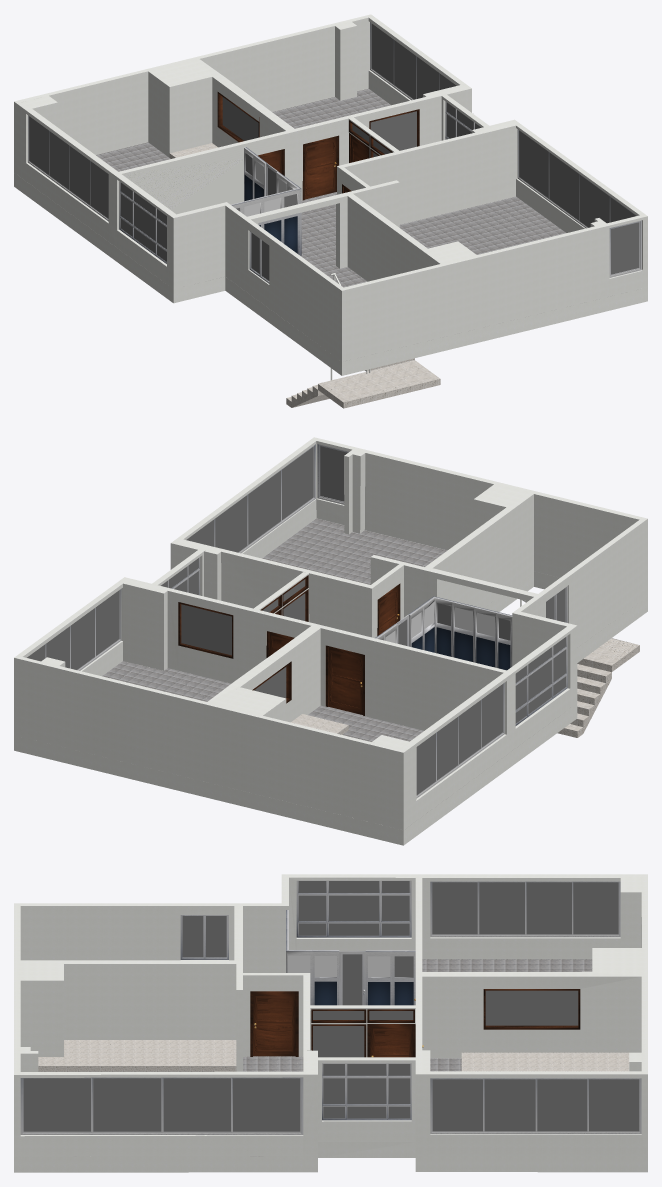
Rendered from Piso4SinObjetos.FBX.
3 views of the same model, one above another, from view 1: azimuth 30°, elevation 25°; view 2: azimuth 150°, elevation 25°; view 3: azimuth 270°, elevation 25° (orthographic). The views are drawn at different scales.
Parts seen in each view (by area): view 1: Paredes, Suelo, Vidrio (×5), Escaleras, ParedOficina, puerta002, Vidrio013, Vidrio016, VentanaIntermedio2, Vidrio012, Vidrio009, Vidrio010 (+2 smaller); view 2: Paredes, Suelo, Vidrio (×6), ParedOficina, Escaleras, puerta003, Vidrio015, Vidrio014, Vidrio010, Vidrio011, Vidrio012, Vidrio009 (+2 smaller); view 3: Paredes, Vidrio (×10), Suelo, ParedOficina, VentanaIntermedio2, Vidrio014, puerta, Vidrio016, Vidrio013, Vidrio015, Marco (×3), Vidrio009 (+26 smaller).
Boxes of the visible parts, bbox=[...] form: Paredes: bbox=[14, 14, 647, 361]; Suelo: bbox=[14, 88, 647, 375]; Vidrio (×5): bbox=[370, 111, 639, 274]; Escaleras: bbox=[286, 273, 440, 408]; ParedOficina: bbox=[231, 147, 301, 256]; puerta002: bbox=[304, 137, 336, 199]; Vidrio013: bbox=[371, 23, 393, 83]; Vidrio016: bbox=[394, 40, 415, 99]; VentanaIntermedio2: bbox=[222, 97, 258, 140]; Vidrio012: bbox=[49, 131, 69, 189]; Vidrio009: bbox=[29, 116, 48, 174]; Vidrio010: bbox=[70, 146, 89, 204]; Paredes: bbox=[14, 437, 647, 830]; Suelo: bbox=[14, 518, 647, 845]; Vidrio (×6): bbox=[181, 446, 551, 700]; ParedOficina: bbox=[375, 596, 512, 670]; Escaleras: bbox=[520, 599, 639, 737]; puerta003: bbox=[328, 647, 362, 714]; Vidrio015: bbox=[96, 590, 119, 655]; Vidrio014: bbox=[71, 608, 94, 669]; Vidrio010: bbox=[459, 700, 480, 764]; Vidrio011: bbox=[481, 684, 502, 747]; Vidrio012: bbox=[437, 717, 458, 780]; Vidrio009: bbox=[416, 733, 435, 794]; Paredes: bbox=[14, 874, 647, 1156]; Vidrio (×10): bbox=[23, 881, 409, 1131]; Suelo: bbox=[14, 959, 647, 1172]; ParedOficina: bbox=[286, 910, 415, 1005]; VentanaIntermedio2: bbox=[485, 990, 578, 1025]; Vidrio014: bbox=[484, 1079, 535, 1131]; puerta: bbox=[253, 993, 295, 1056]; Vidrio016: bbox=[537, 1079, 587, 1131]; Vidrio013: bbox=[589, 1079, 639, 1131]; Vidrio015: bbox=[432, 1079, 482, 1131]; Marco (×3): bbox=[20, 881, 620, 1134]; Vidrio009: bbox=[573, 882, 618, 934].
Size of the model in its own units: 498 by 211 by 665.
12 materials, 10 textured.
